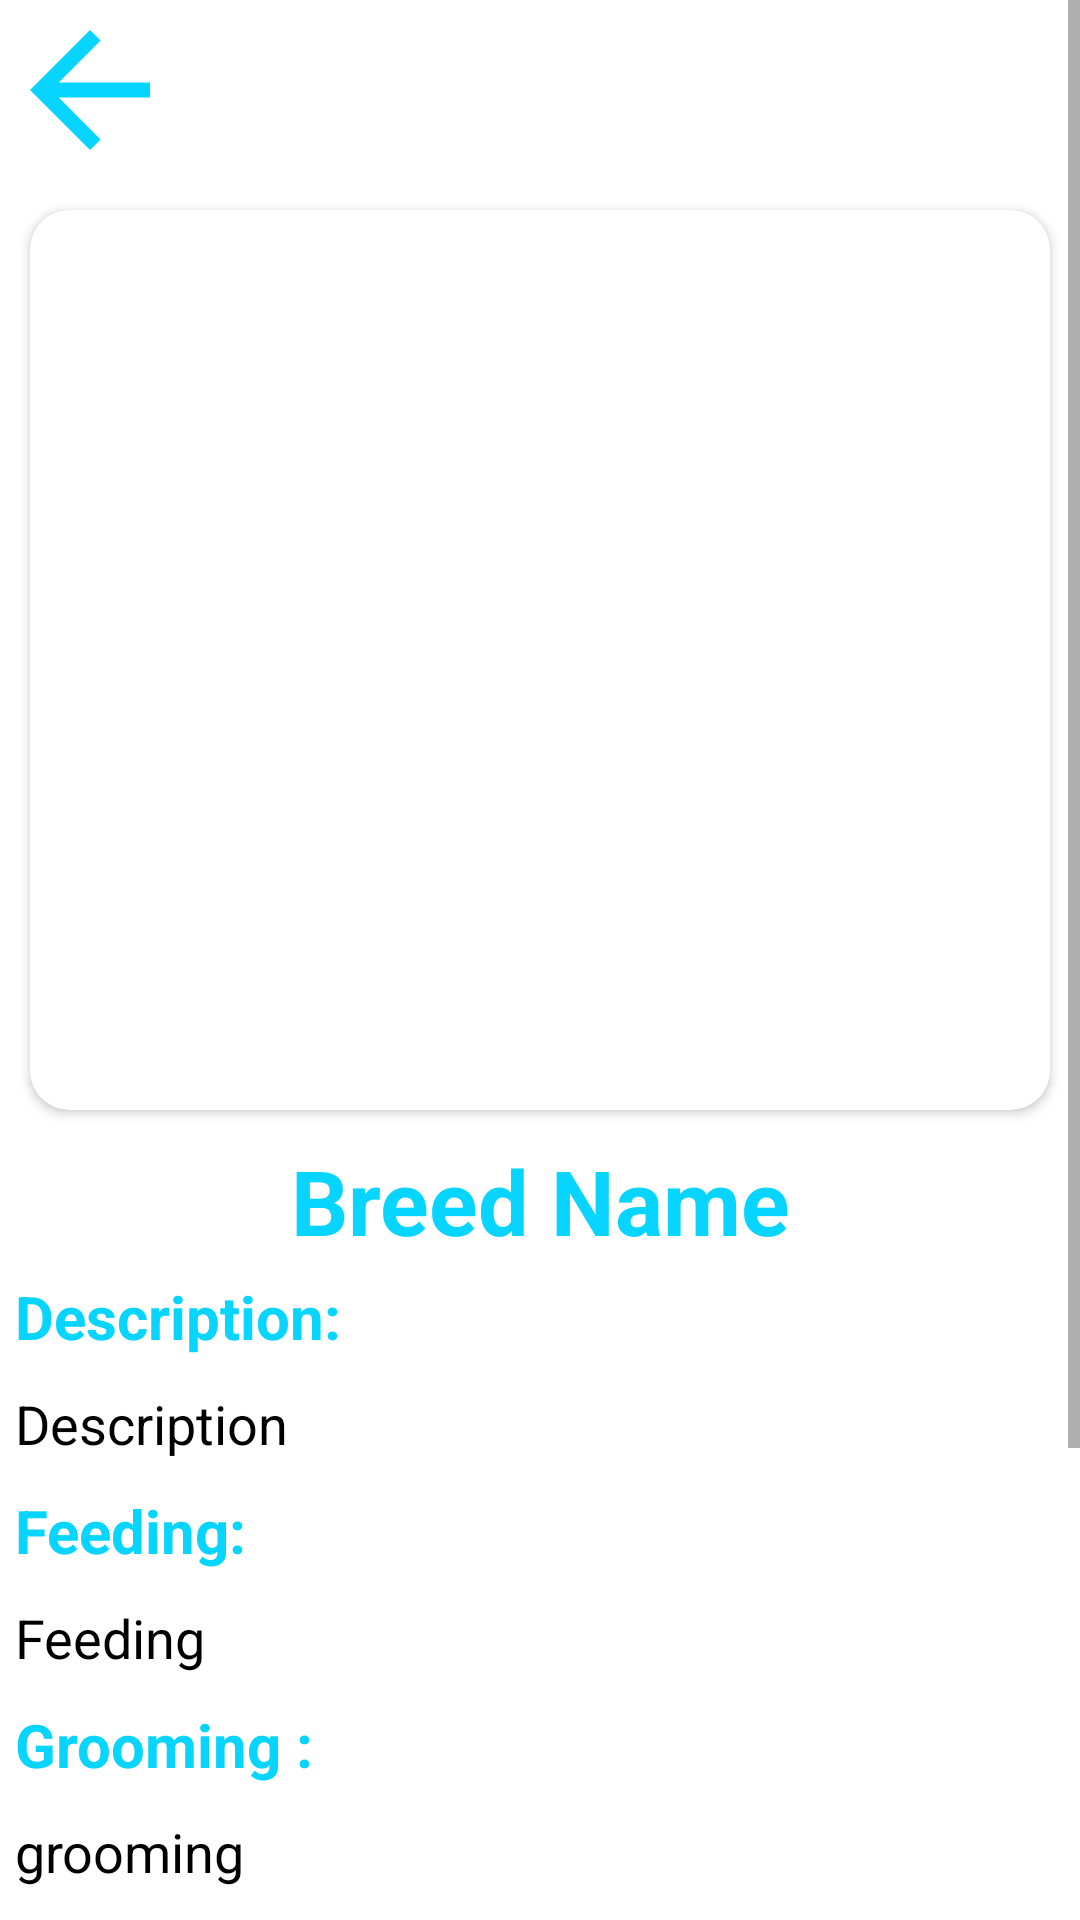

Icons on this 1080px×1920px Android screen, each with its box as (x1, y1, x2, y2):
arrow back: (30, 30, 150, 150)
